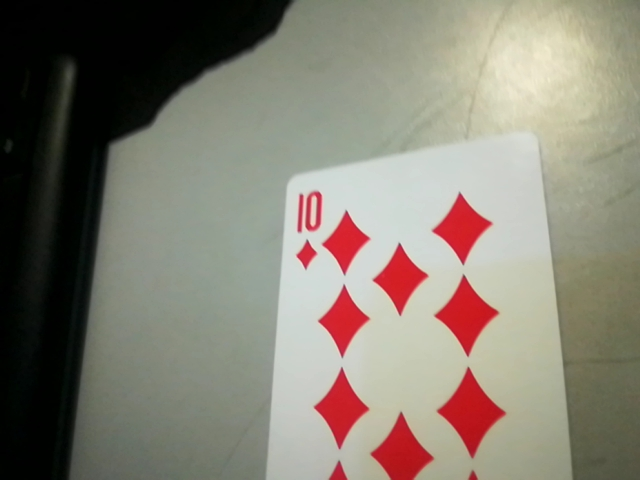fk 10: (280, 180, 332, 275)
